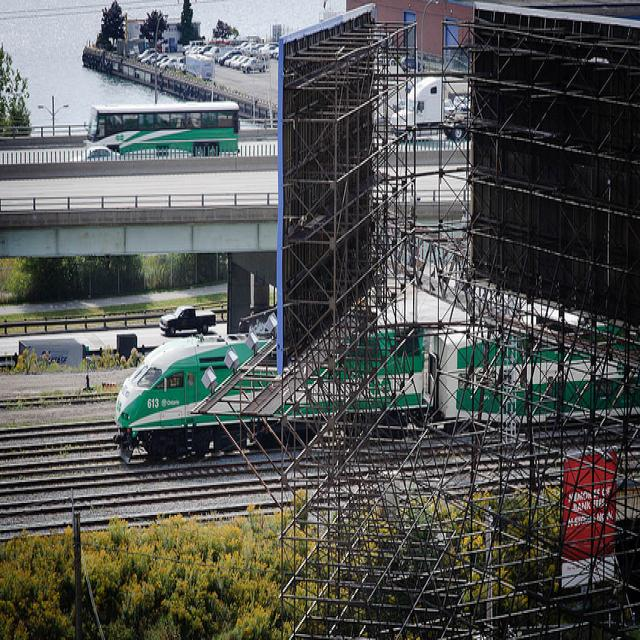Vehicle: (85, 109, 235, 159), (407, 75, 469, 138), (18, 338, 86, 371), (158, 306, 216, 336), (68, 144, 119, 163), (221, 48, 239, 72), (241, 59, 267, 73), (218, 51, 242, 65), (136, 48, 155, 62), (260, 44, 276, 58), (230, 56, 246, 69), (140, 52, 156, 65), (160, 58, 176, 70), (236, 57, 250, 70), (154, 52, 168, 64), (204, 47, 218, 58), (185, 46, 199, 56), (190, 47, 205, 54)
